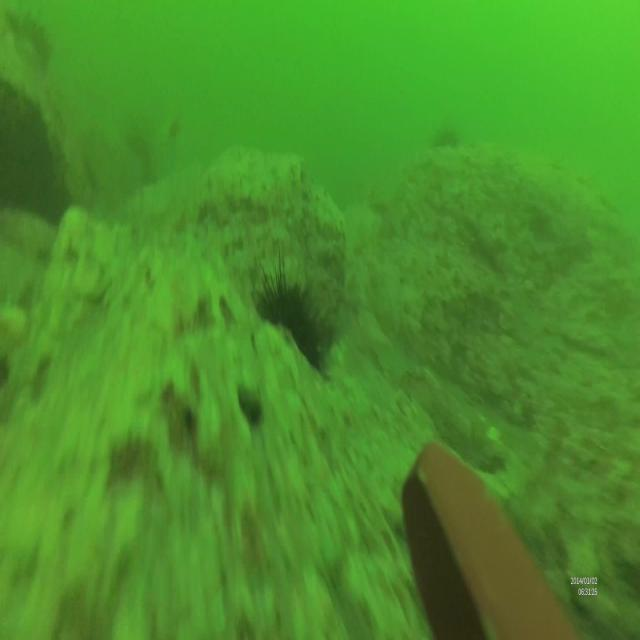echinus: (252, 260, 331, 364)
